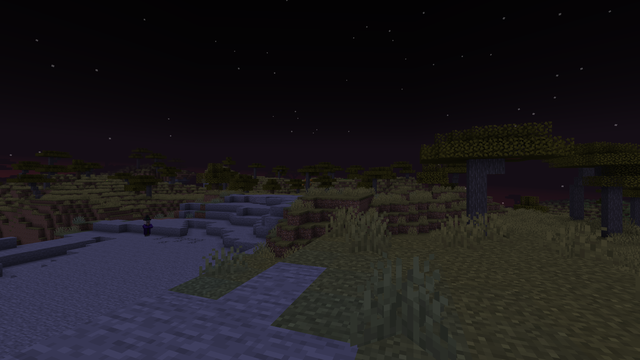sorcieres: (142, 219, 150, 236)
